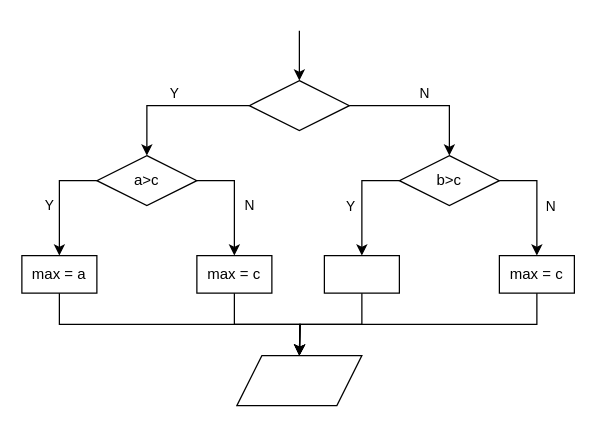
This 596x428 diagram has some shape labels left out. The shapes that lost their labels are listed below. From the top down, each one's centre as x and y in pixels, then its label:
At (298,105): "a>b".
At (361,273): "max = b".
At (299,380): "输出最大值".
